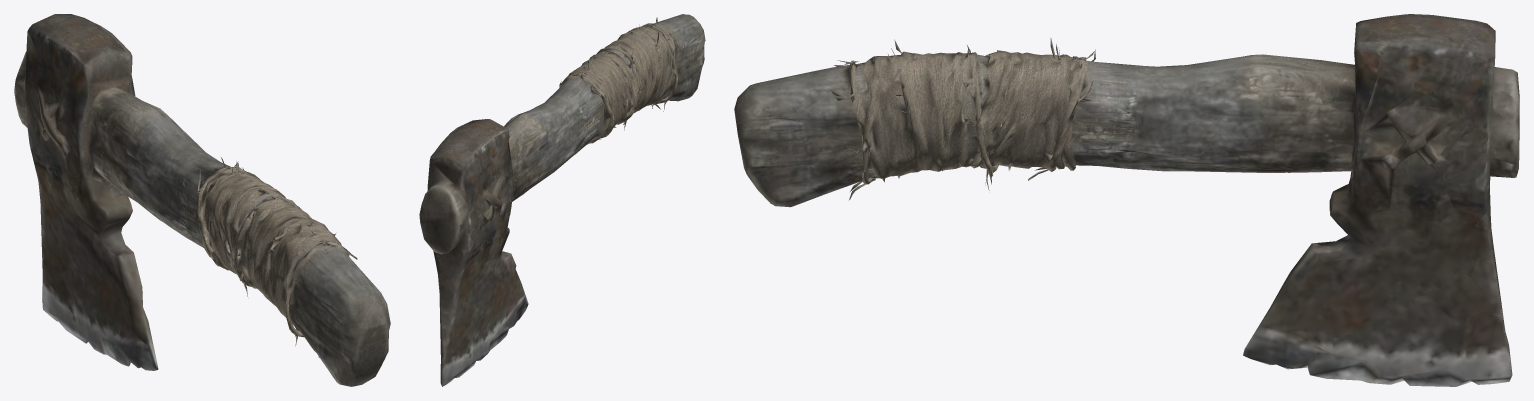
File: hatchet.4ac5296c.glb
The picture shows the model from 3 angles, left to right: view 1: azimuth 30°, elevation 25°; view 2: azimuth 150°, elevation 25°; view 3: azimuth 270°, elevation 25°; orthographic projection. The views are drawn at different scales.
Visible parts, largest first — view 1: item; view 2: item; view 3: item.
Boxes of the visible parts, <box> form: item: <box>14,14,390,386</box>; item: <box>419,14,705,386</box>; item: <box>734,14,1519,386</box>.
Bounding box in the file's own units: 0.057 × 0.231 × 0.4499.
Materials: 1 (1 with a texture image).
